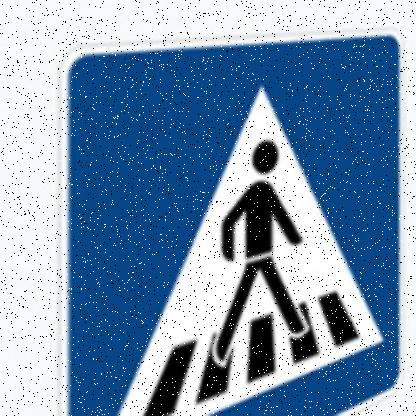Pedestrian Crossing: (51, 30, 411, 416)
